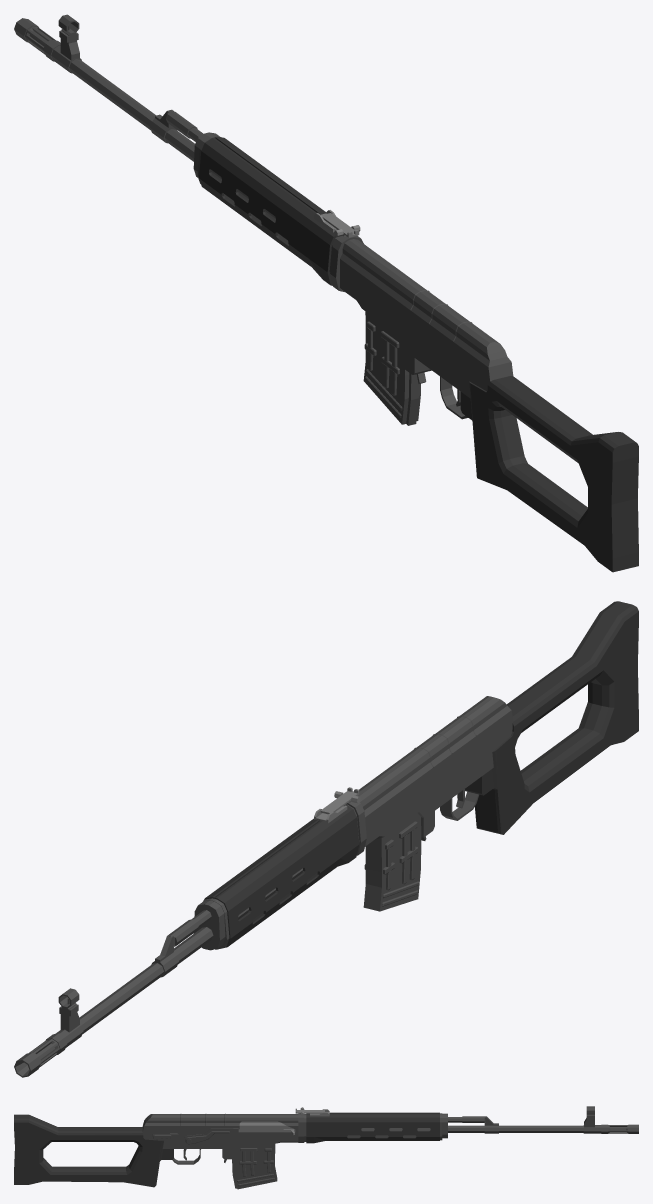
Rendered from SVD.fbx.
3 renders of one model, top to bottom at view 1: azimuth 30°, elevation 25°; view 2: azimuth 150°, elevation 25°; view 3: azimuth 270°, elevation 25°, orthographic. The views are drawn at different scales.
Parts seen in each view (by area): view 1: SVD, MAG; view 2: SVD, MAG; view 3: SVD, MAG, BOLT.
Boxes of the visible parts, x1,y1,x2,y2 form: SVD: [14, 14, 638, 572]; MAG: [363, 311, 420, 425]; SVD: [14, 601, 638, 1077]; MAG: [363, 813, 421, 911]; SVD: [14, 1106, 638, 1187]; MAG: [232, 1143, 277, 1189]; BOLT: [238, 1121, 295, 1134].
Size of the model in its own units: 4.84 by 17.96 by 126.
Materials: 1 (1 with a texture image).
